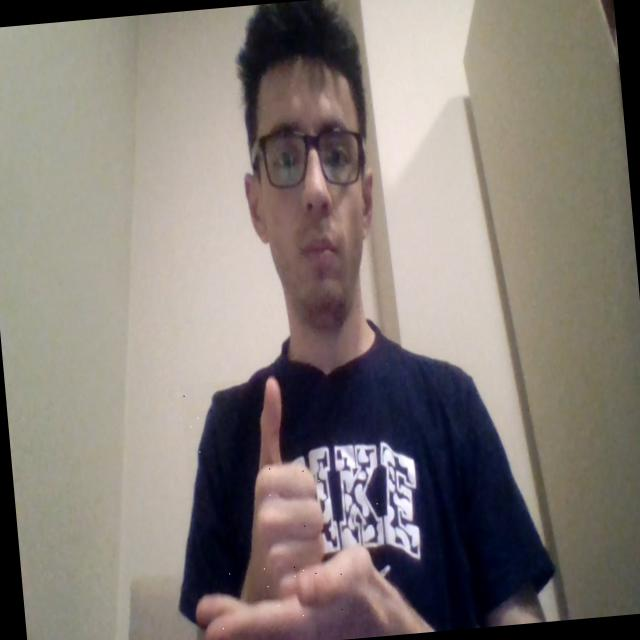help: (179, 367, 392, 640)
